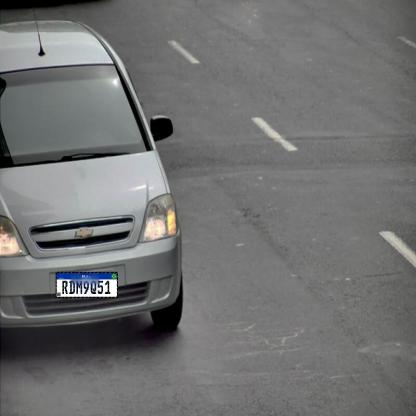PlacaM: (56, 272, 118, 298)
